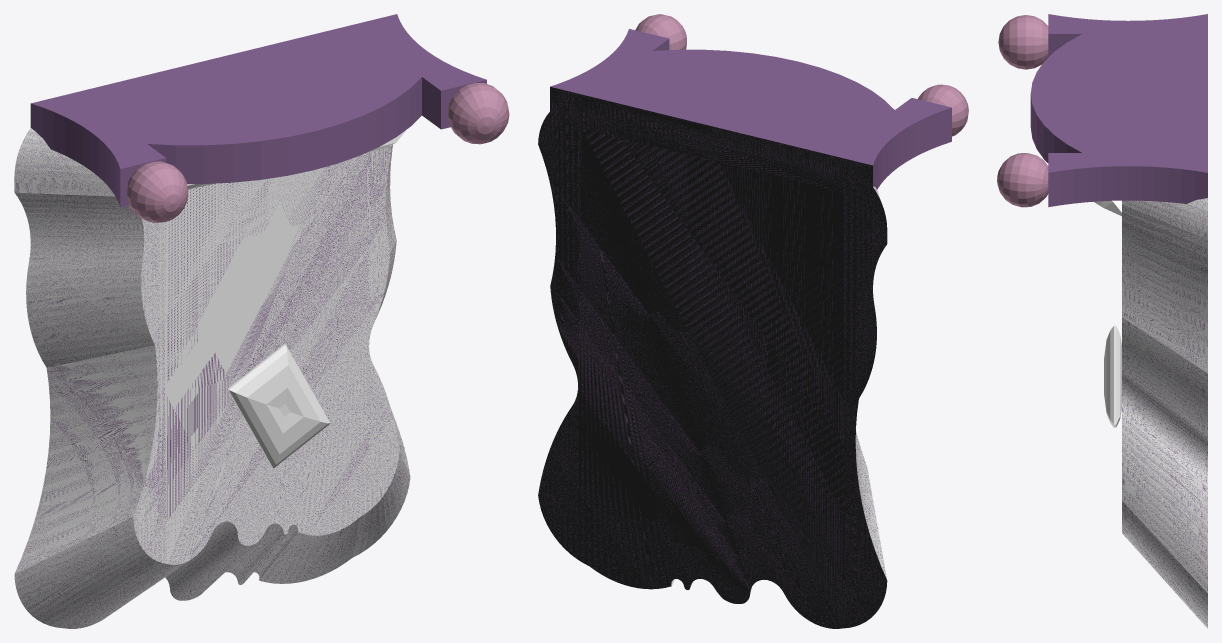
The picture shows the model from 3 angles, left to right: view 1: azimuth 30°, elevation 25°; view 2: azimuth 150°, elevation 25°; view 3: azimuth 270°, elevation 25°; orthographic projection. The views are drawn at different scales.
Visible parts, largest first — view 1: pink bed; view 2: pink bed; view 3: pink bed.
Boxes of the visible parts, box(x1,y1,x2,y2) form: pink bed: box(14, 14, 509, 628); pink bed: box(538, 14, 968, 628); pink bed: box(997, 14, 1207, 628).
Size of the model in its own units: 111 by 149 by 57.79.
